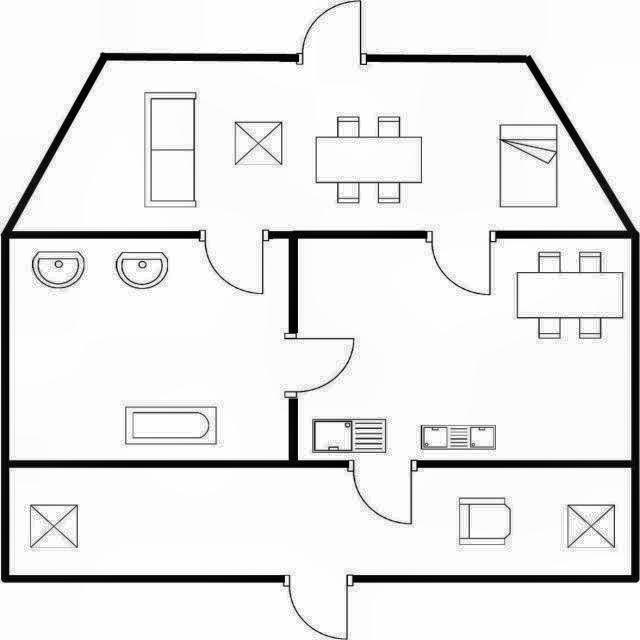room: (12, 60, 627, 231), (298, 239, 631, 460), (9, 468, 631, 575), (9, 239, 289, 460)
